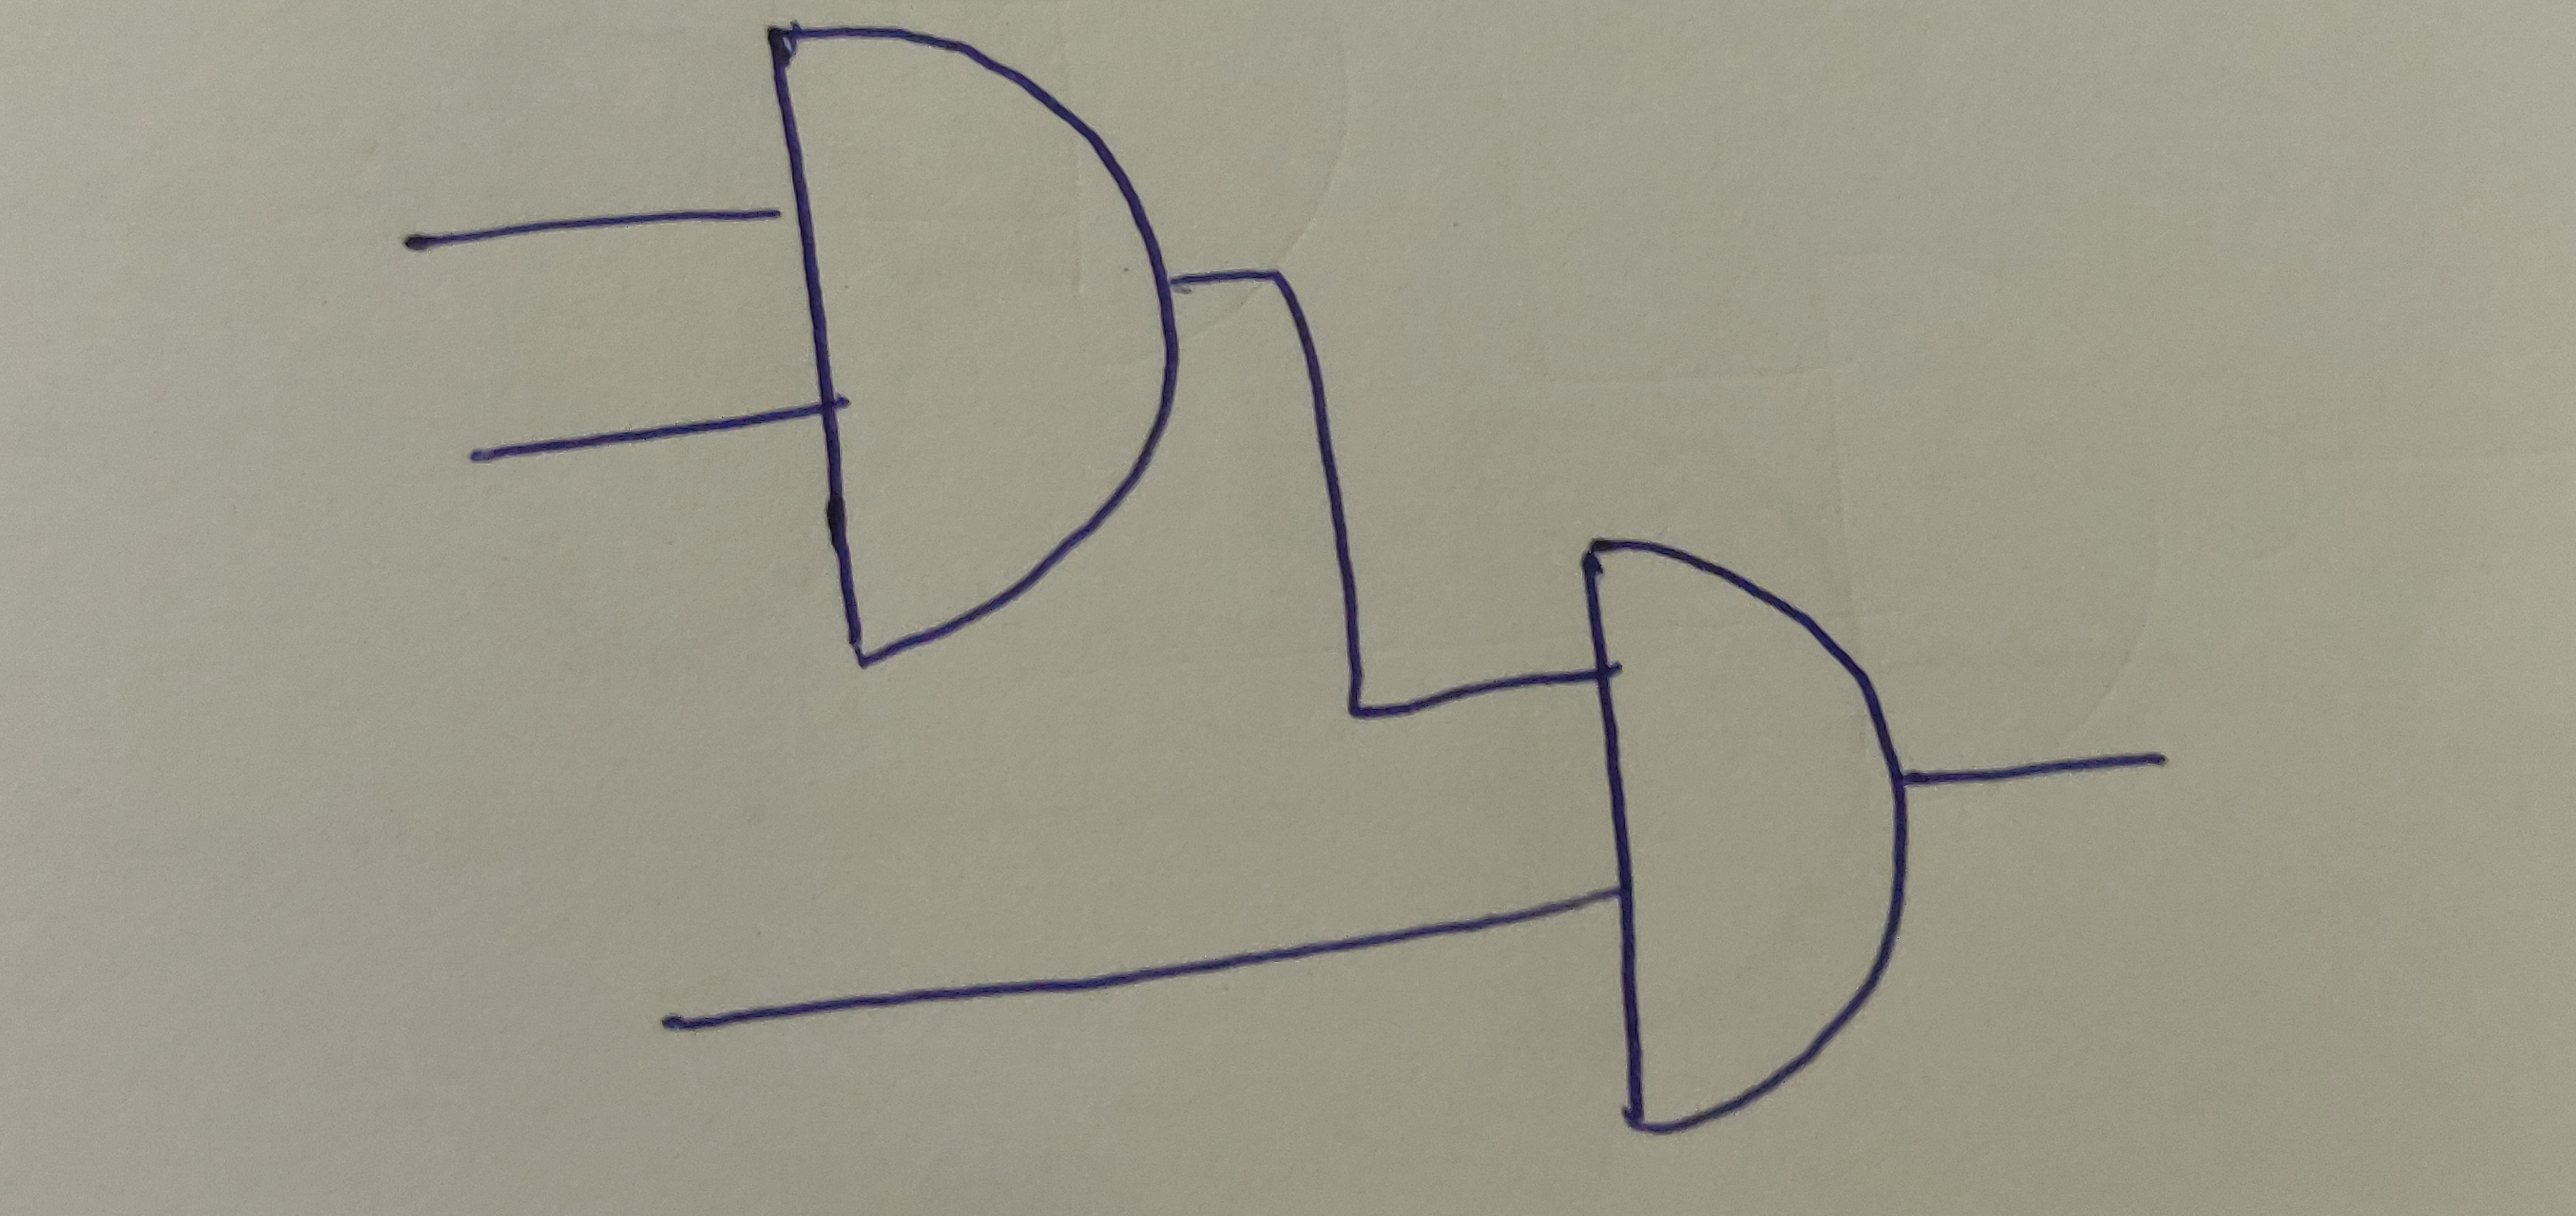and: (764, 30, 1186, 672), (1579, 532, 1914, 1140)
